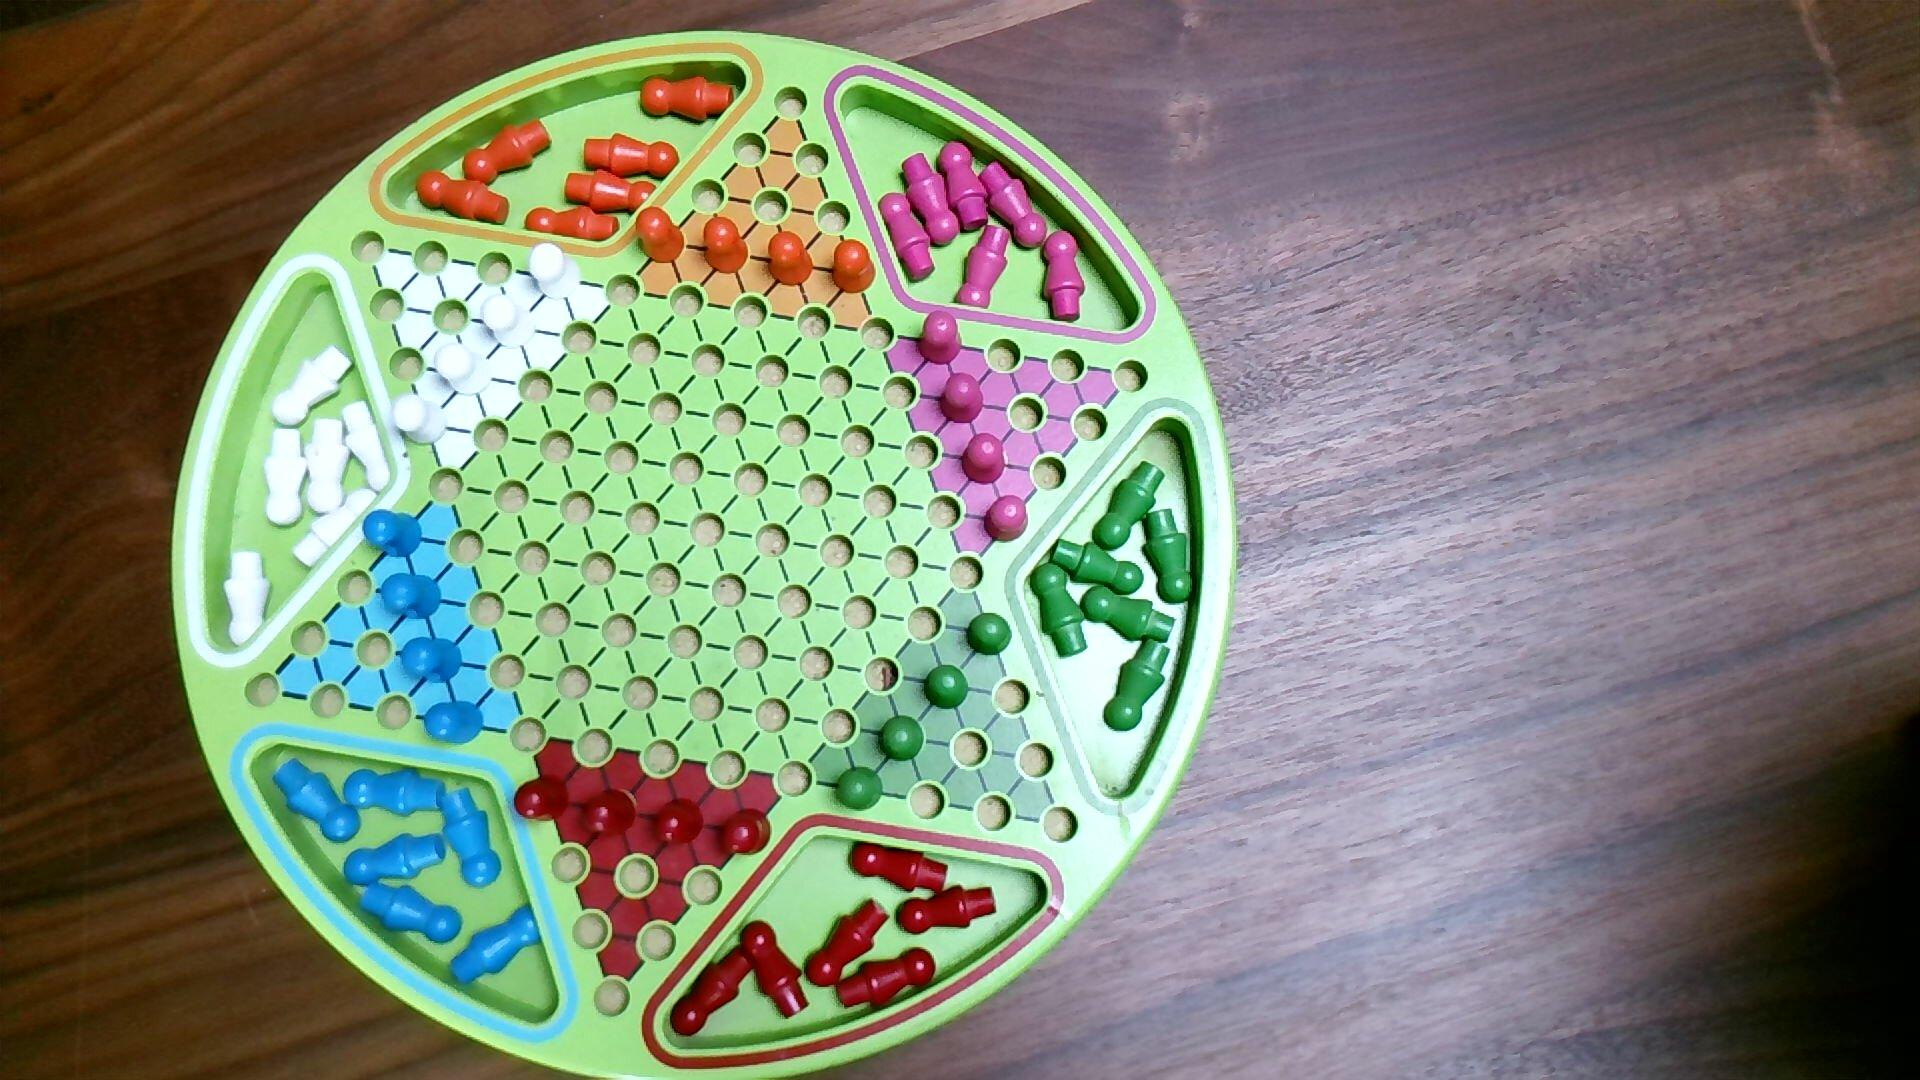B: (400, 634, 464, 687), (363, 506, 425, 560), (378, 571, 443, 622), (423, 700, 487, 748)
G: (876, 711, 926, 765), (833, 764, 885, 814), (922, 662, 971, 713), (964, 611, 1015, 659)
O: (634, 204, 688, 266), (765, 227, 818, 290), (702, 214, 752, 278), (829, 237, 878, 297)
R: (647, 793, 707, 851), (578, 785, 640, 840), (512, 773, 574, 827), (717, 804, 773, 858)
R2: (913, 307, 967, 368), (959, 429, 1007, 488), (981, 492, 1031, 545), (938, 371, 985, 426)
W: (431, 339, 497, 401), (477, 289, 539, 352), (527, 239, 583, 305), (392, 392, 451, 448)
